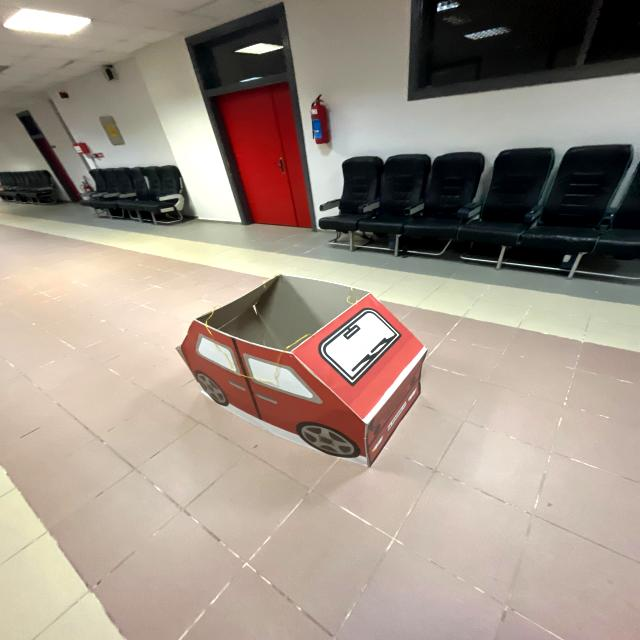red_car: (171, 265, 447, 477)
